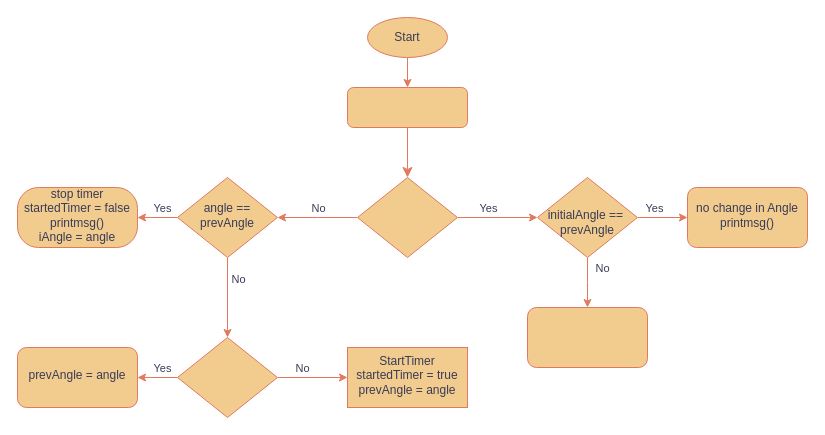
This 825x435 diagram has some shape labels left out. The shapes that lost their labels are listed below. From the top down, each one's centre as x and y in pixels, then its label:
pixel 407 107: angle = ReadAngle()
pixel 407 217: angle == initialAngle
pixel 587 337: Noise Angle prevAngle = angle stopTimer startedTimer = false
pixel 227 377: startedTimer == Yes
